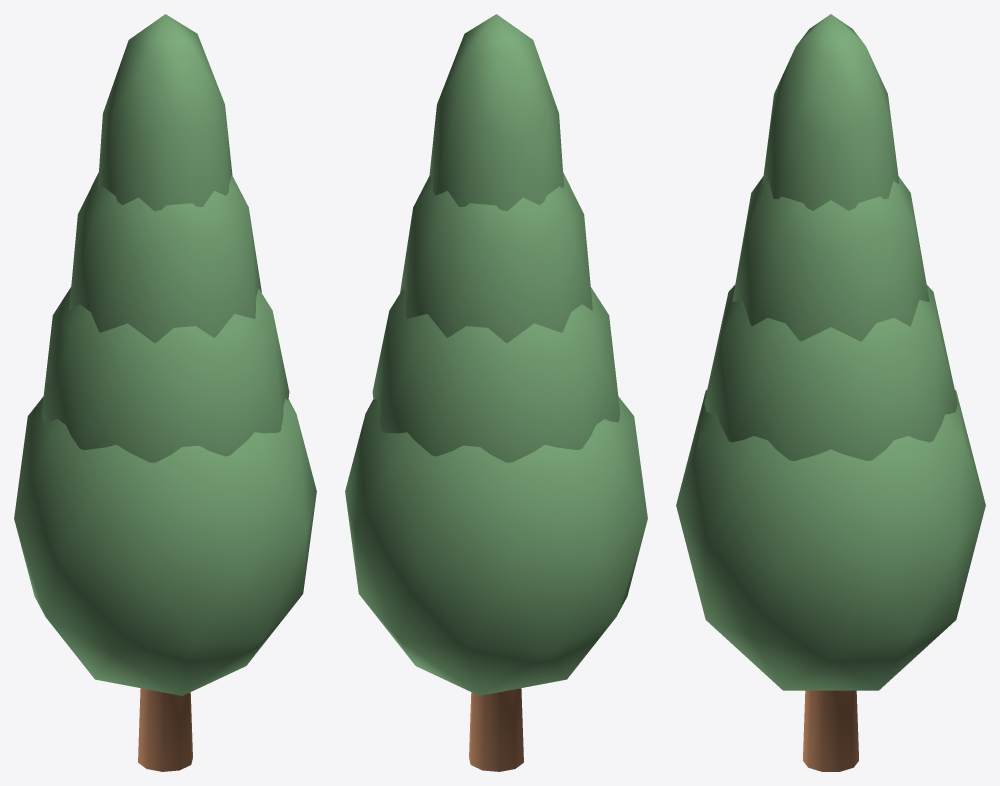
File: Cypress_tree.fbx
The picture shows the model from 3 angles, left to right: view 1: azimuth 30°, elevation 25°; view 2: azimuth 150°, elevation 25°; view 3: azimuth 270°, elevation 25°; orthographic projection.
Visible parts, largest first — view 1: Town_Cypress_tree Cypress crown.004, Town_Cypress_tree Cypress crown.005, Town_Cypress_tree Cypress crown.006, Town_Cypress_tree Cypress crown.007, Town_Cypress_tree Cypress trunk.001; view 2: Town_Cypress_tree Cypress crown.004, Town_Cypress_tree Cypress crown.005, Town_Cypress_tree Cypress crown.006, Town_Cypress_tree Cypress crown.007, Town_Cypress_tree Cypress trunk.001; view 3: Town_Cypress_tree Cypress crown.004, Town_Cypress_tree Cypress crown.005, Town_Cypress_tree Cypress crown.006, Town_Cypress_tree Cypress crown.007, Town_Cypress_tree Cypress trunk.001.
Boxes of the visible parts, x1,y1,x2,y2 form: Town_Cypress_tree Cypress crown.004: [14, 396, 316, 695]; Town_Cypress_tree Cypress crown.005: [41, 287, 289, 462]; Town_Cypress_tree Cypress crown.006: [69, 172, 261, 343]; Town_Cypress_tree Cypress crown.007: [98, 14, 232, 211]; Town_Cypress_tree Cypress trunk.001: [138, 688, 192, 771]; Town_Cypress_tree Cypress crown.004: [345, 396, 647, 695]; Town_Cypress_tree Cypress crown.005: [372, 287, 620, 462]; Town_Cypress_tree Cypress crown.006: [400, 172, 592, 343]; Town_Cypress_tree Cypress crown.007: [429, 14, 563, 211]; Town_Cypress_tree Cypress trunk.001: [469, 688, 523, 771]; Town_Cypress_tree Cypress crown.004: [676, 390, 985, 690]; Town_Cypress_tree Cypress crown.005: [704, 285, 957, 460]; Town_Cypress_tree Cypress crown.006: [732, 176, 929, 341]; Town_Cypress_tree Cypress crown.007: [762, 14, 899, 210]; Town_Cypress_tree Cypress trunk.001: [803, 690, 858, 771].
Bounding box in the file's own units: 209 × 585 × 220.
